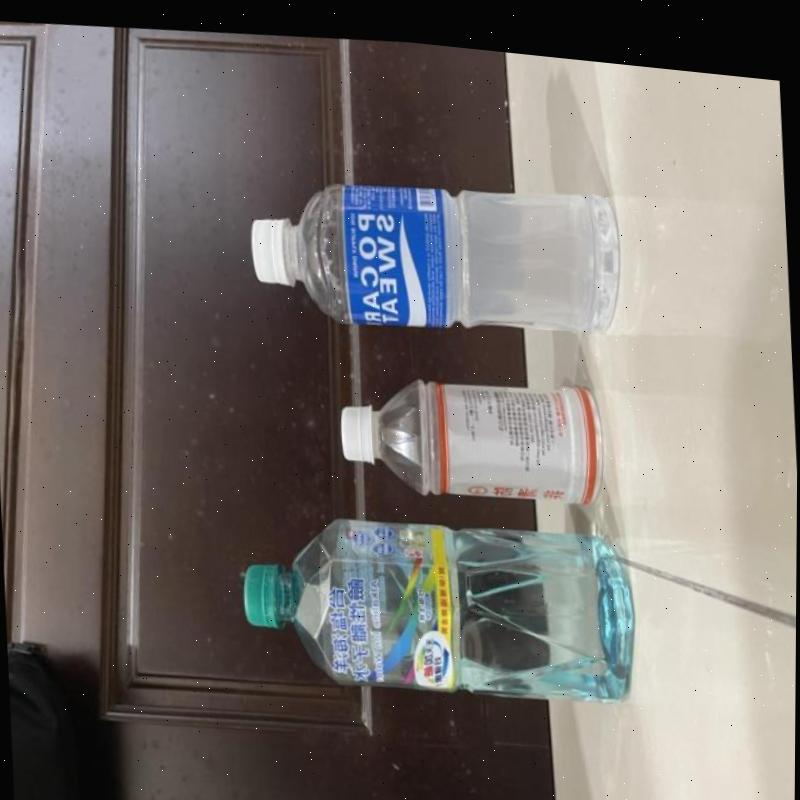botella: (239, 484, 639, 713), (246, 151, 623, 342), (337, 352, 608, 506)
